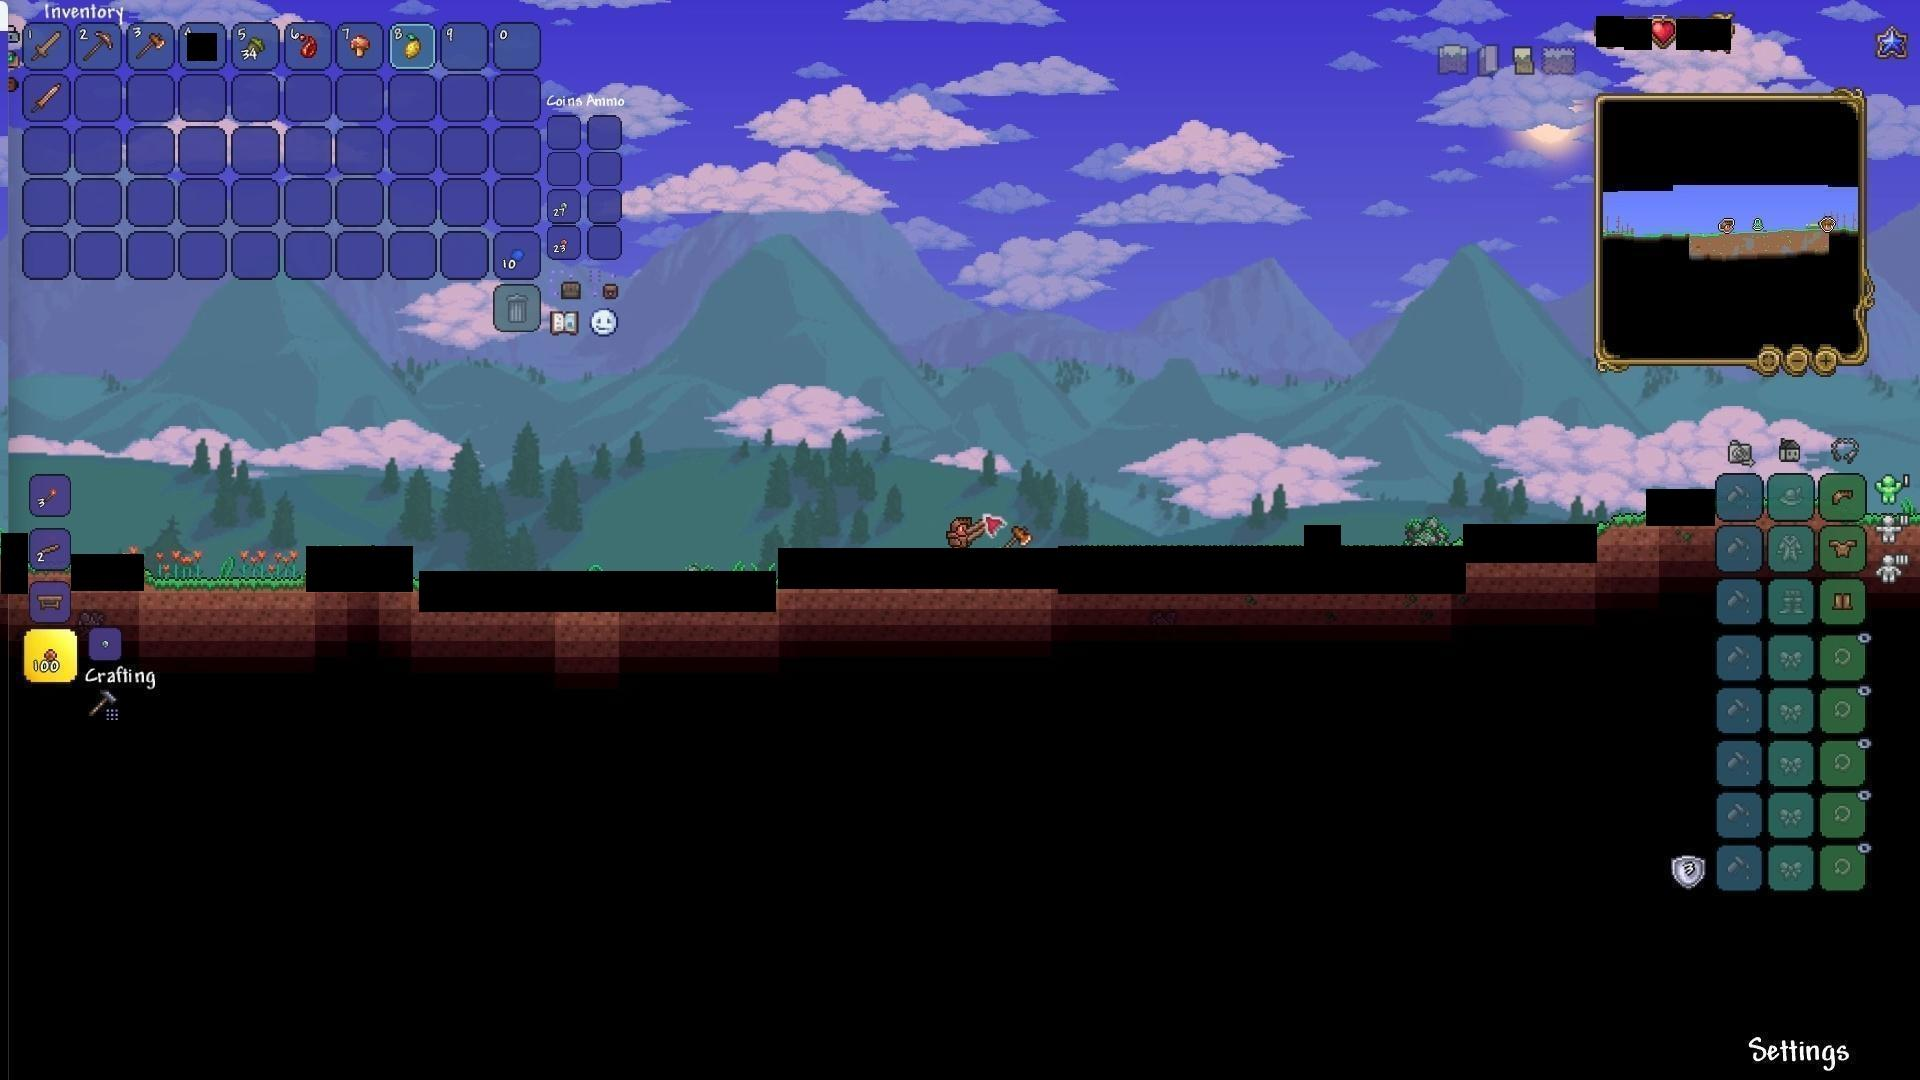breastplate: (1830, 537, 1859, 558)
dirt: (146, 567, 301, 607), (1597, 497, 1640, 537)
heart: (1648, 18, 1676, 49)
helmet: (1829, 483, 1859, 510)
legs: (1830, 588, 1855, 617)
workbench: (32, 589, 67, 615)
